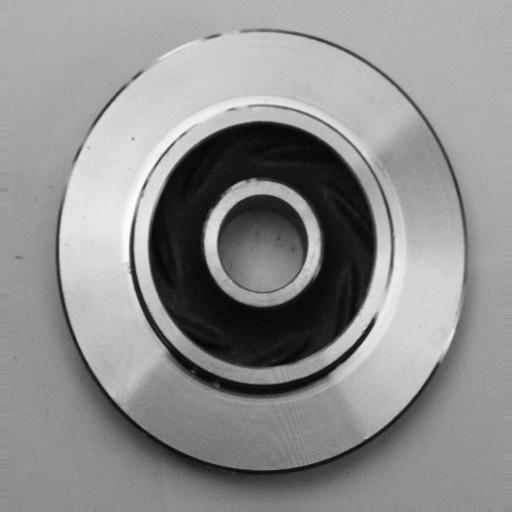scratch: (167, 94, 262, 137)
unpolished_casting: (55, 25, 468, 478)
